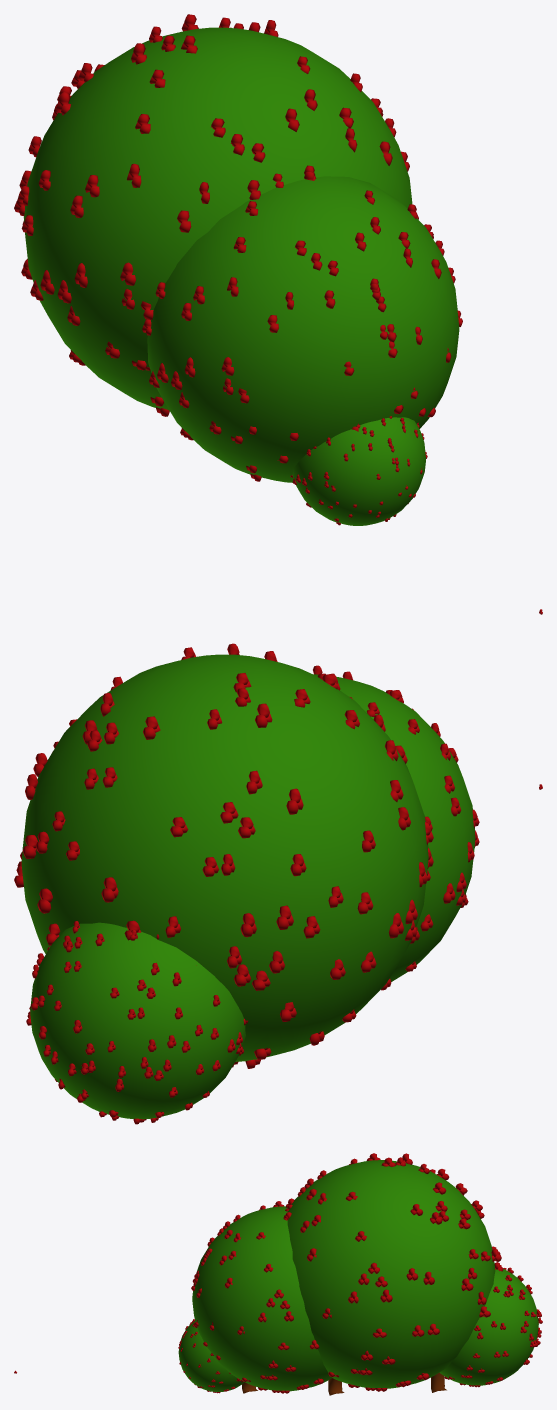
File: bush.glb
3 renders of one model, top to bottom at view 1: azimuth 30°, elevation 25°; view 2: azimuth 150°, elevation 25°; view 3: azimuth 270°, elevation 25°, orthographic. The views are drawn at different scales.
Parts seen in each view (by area): view 1: Sphere.001, Sphere, Sphere.002; view 2: Sphere.001, Sphere.003, Sphere; view 3: Sphere.001, Sphere, Sphere.003, Sphere.002.
Part boxes in pixels (bbox=[...]): Sphere.001: bbox=[14, 14, 418, 416]; Sphere: bbox=[142, 173, 462, 482]; Sphere.002: bbox=[290, 416, 427, 525]; Sphere.001: bbox=[14, 643, 433, 1068]; Sphere.003: bbox=[26, 921, 247, 1124]; Sphere: bbox=[313, 665, 479, 990]; Sphere.001: bbox=[283, 1153, 503, 1391]; Sphere: bbox=[191, 1201, 331, 1393]; Sphere.003: bbox=[439, 1265, 542, 1387]; Sphere.002: bbox=[178, 1319, 244, 1393].
Bounding box in the file's own units: 5.46 × 5.79 × 12.34.
